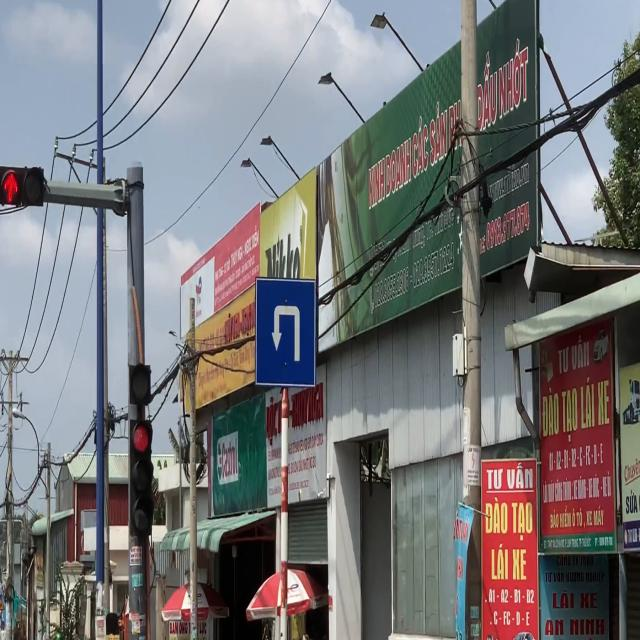Chi dan: (256, 275, 316, 390)
